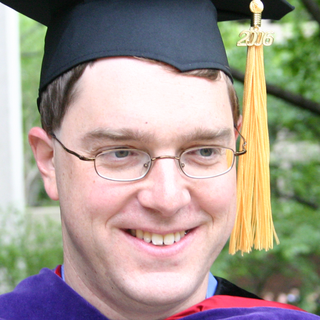eye: (94, 144, 142, 163), (182, 141, 224, 162)
